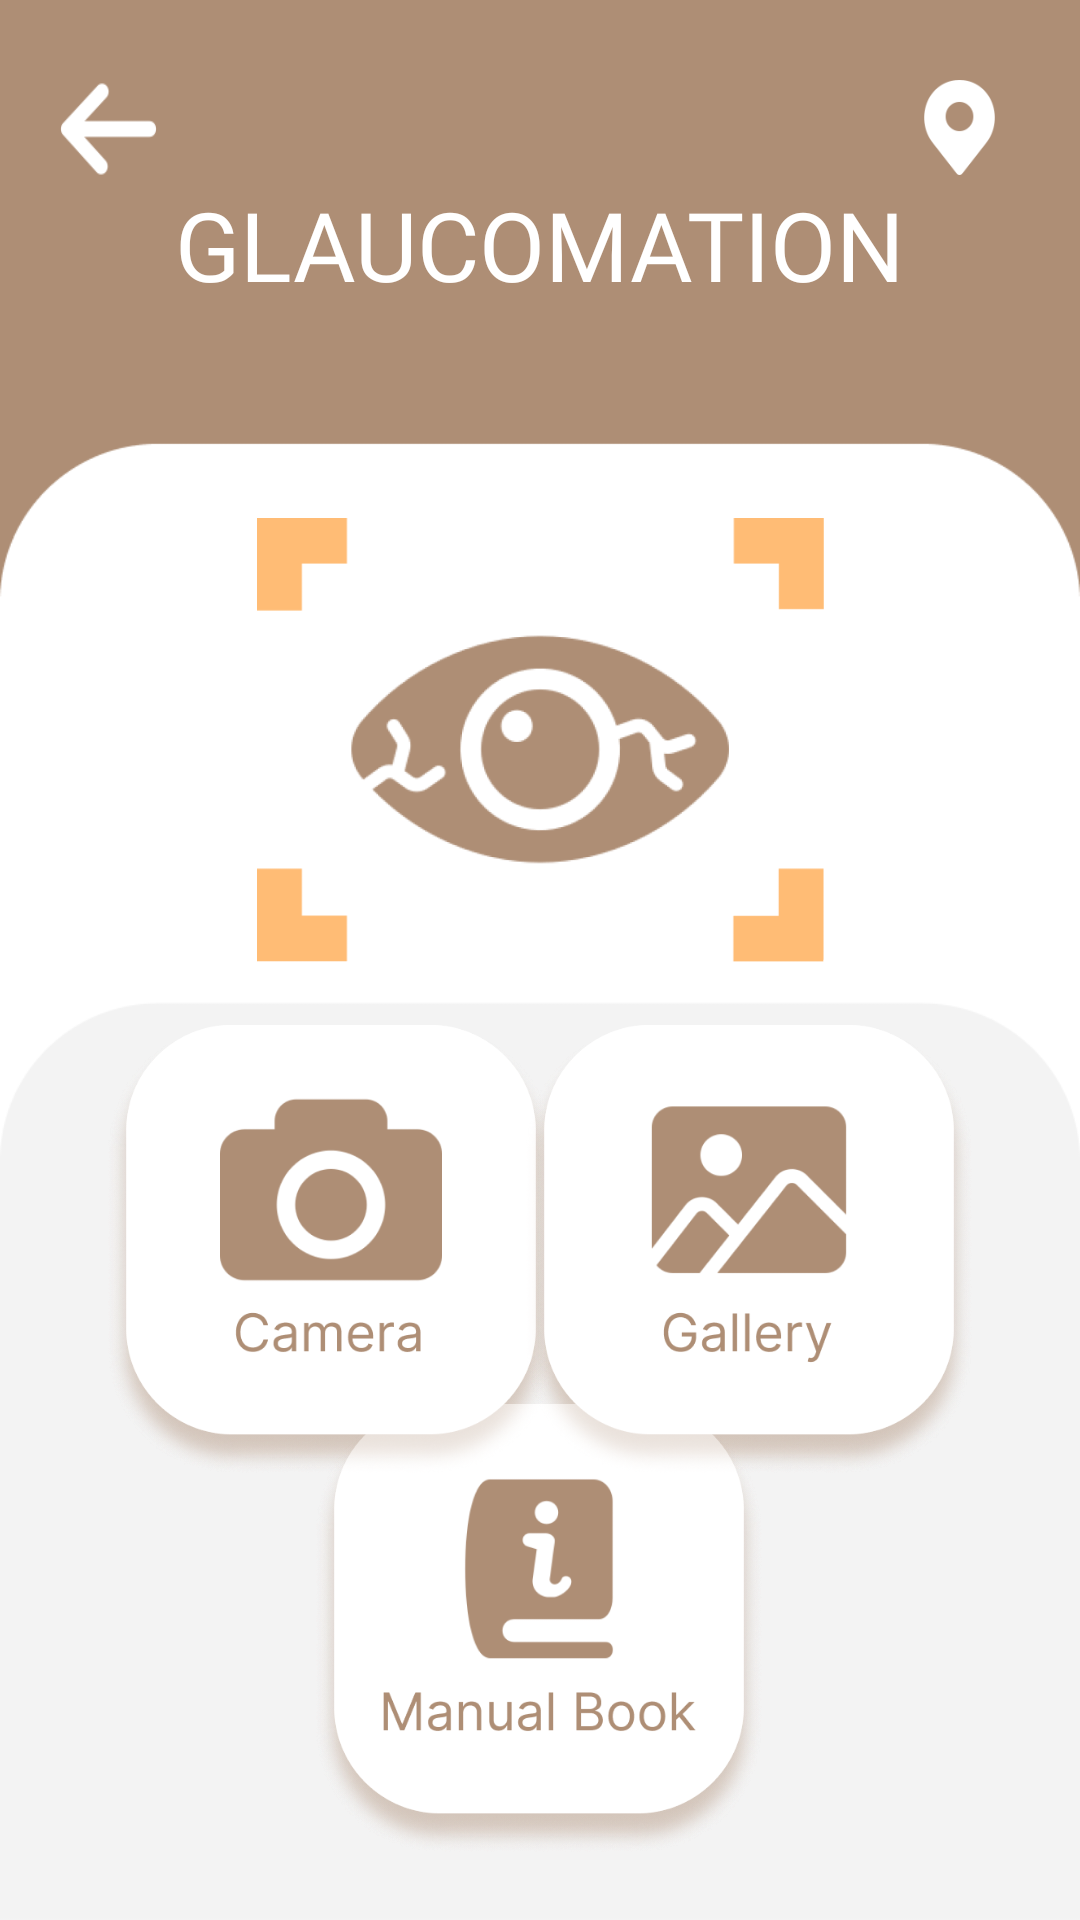

Where to tap for icons on this 1080 x 1920 app screen, as (x=x, y=y):
back: (x=108, y=129)
map: (x=959, y=127)
